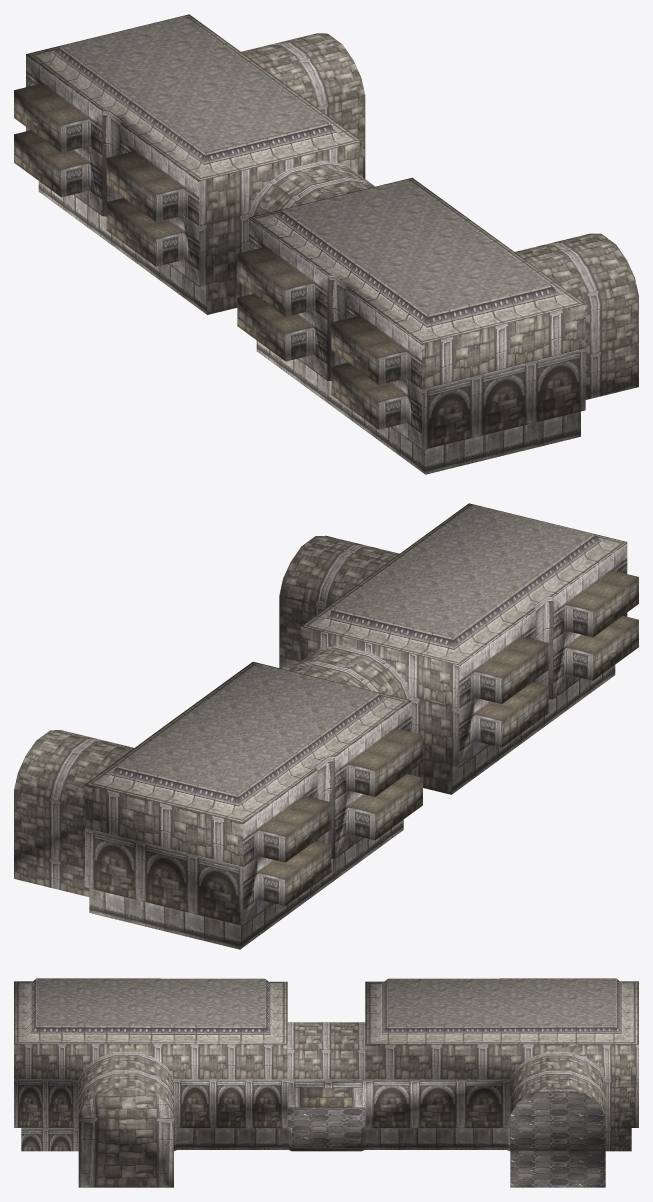
Rendered from stormwind_150.fbx.
3 renders of one model, top to bottom at view 1: azimuth 30°, elevation 25°; view 2: azimuth 150°, elevation 25°; view 3: azimuth 270°, elevation 25°, orthographic. The views are drawn at different scales.
Visible parts, largest first — view 1: stormwind_150_159, stormwind_150_161, stormwind_150_153, stormwind_150_163, stormwind_150_152, stormwind_150_162, stormwind_150_154, stormwind_150_155; view 2: stormwind_150_159, stormwind_150_161, stormwind_150_153, stormwind_150_163, stormwind_150_152, stormwind_150_162, stormwind_150_154, stormwind_150_155; view 3: stormwind_150_159, stormwind_150_161, stormwind_150_152, stormwind_150_153, stormwind_150_157, stormwind_150_154.
Part boxes in pixels (box(x1,y1,x2,y2)): stormwind_150_159: box(199, 33, 638, 399); stormwind_150_161: box(61, 16, 550, 314); stormwind_150_153: box(26, 14, 584, 343); stormwind_150_163: box(26, 54, 421, 449); stormwind_150_152: box(102, 110, 585, 449); stormwind_150_162: box(14, 90, 378, 429); stormwind_150_154: box(38, 181, 580, 474); stormwind_150_155: box(14, 83, 405, 401); stormwind_150_159: box(14, 535, 459, 896); stormwind_150_161: box(118, 505, 593, 794); stormwind_150_153: box(85, 503, 626, 822); stormwind_150_163: box(243, 542, 627, 925); stormwind_150_152: box(85, 596, 553, 925); stormwind_150_162: box(285, 577, 638, 905); stormwind_150_154: box(89, 665, 615, 949); stormwind_150_155: box(259, 570, 638, 878); stormwind_150_159: box(14, 1022, 638, 1187); stormwind_150_161: box(37, 978, 615, 1026); stormwind_150_152: box(14, 1078, 510, 1151); stormwind_150_153: box(14, 978, 638, 1044); stormwind_150_157: box(287, 1091, 605, 1187); stormwind_150_154: box(174, 1088, 577, 1151).
Bounding box in the file's own units: 19 × 9.53 × 45.67.
